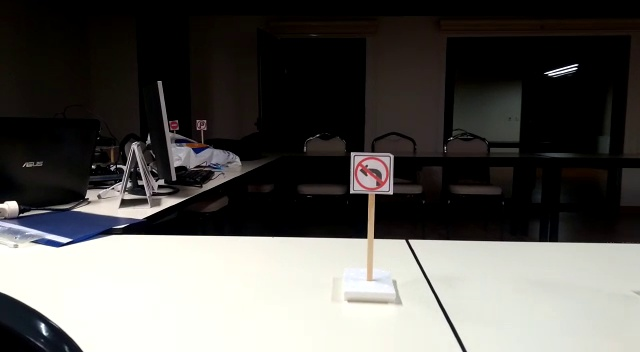sola_donulmez: (352, 153, 395, 193)
